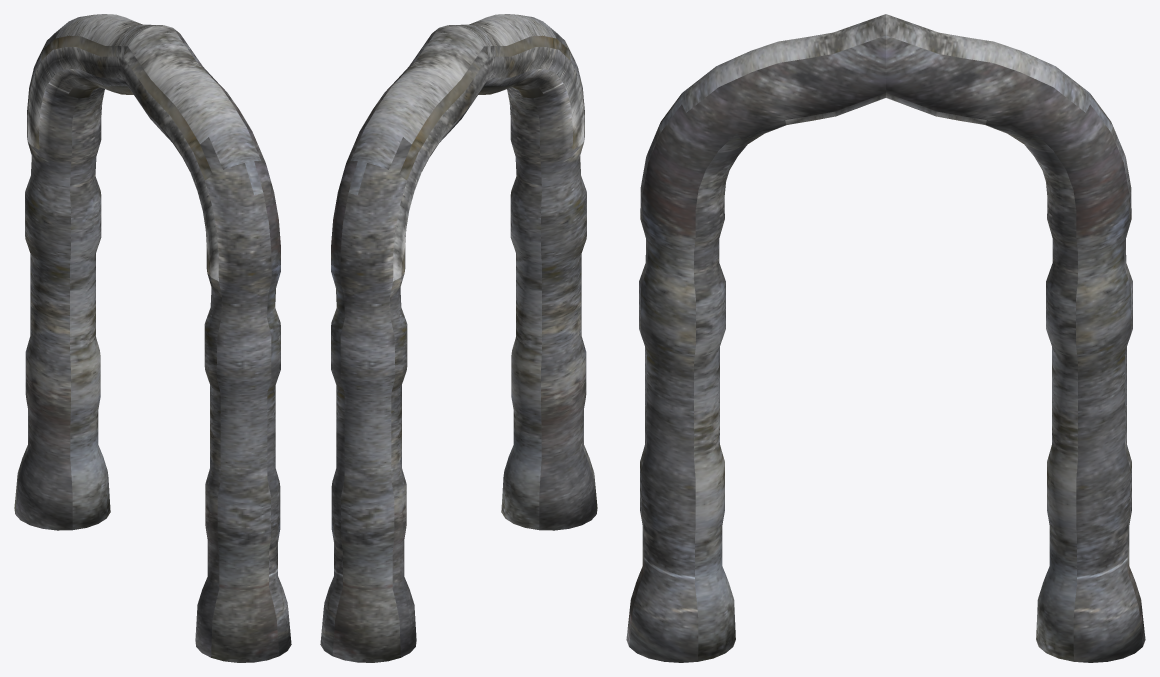
Rendered from arco.FBX.
3 views of the same model, side by side, from view 1: azimuth 30°, elevation 25°; view 2: azimuth 150°, elevation 25°; view 3: azimuth 270°, elevation 25° (orthographic). The views are drawn at different scales.
Visible parts, largest first — view 1: Archway; view 2: Archway; view 3: Archway.
Boxes of the visible parts, left/top/right/bottom form: Archway: left=14, top=14, right=291, bottom=662; Archway: left=320, top=14, right=597, bottom=662; Archway: left=626, top=14, right=1145, bottom=662.
Size of the model in its own units: 25.25 by 159 by 120.
Materials: 1 (1 with a texture image).
